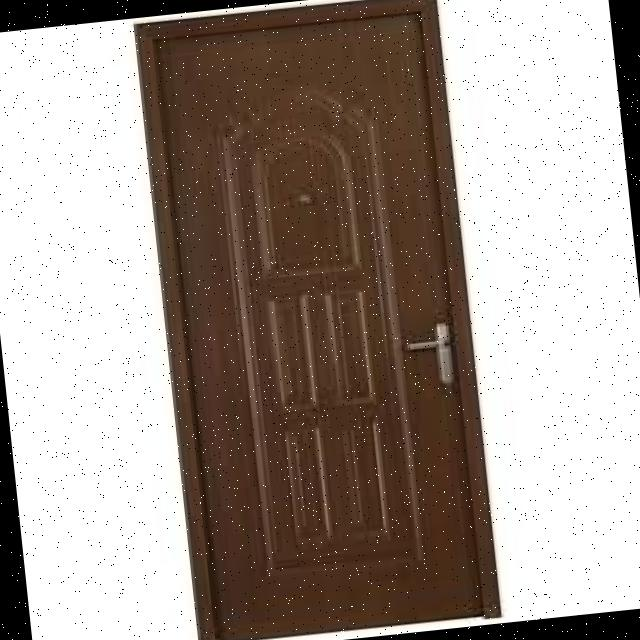Door: (131, 0, 510, 640)
